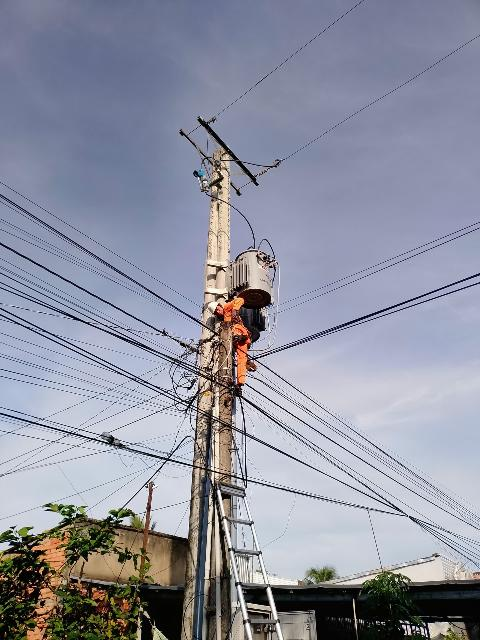harness: (221, 316, 246, 327)
helmet: (199, 299, 225, 314)
shoes: (232, 386, 244, 398)
